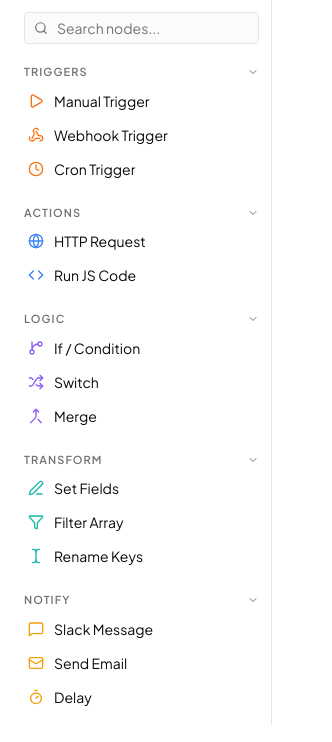
NodePalette › shows all items regardless of collapsed state when searching
Click the button "Triggers".
click(142, 70)  # box [12, 56, 271, 84]
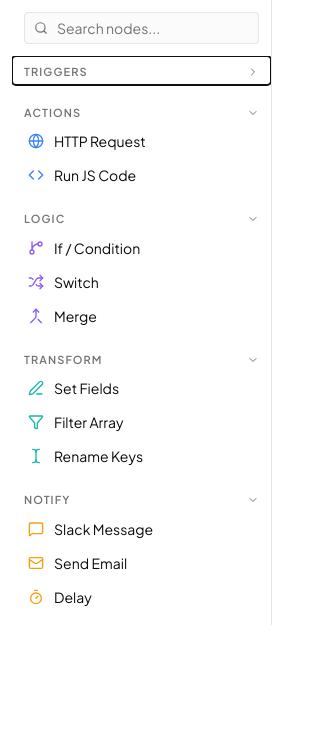
Expected: the text "Manual Trigger" is gone
Type "trigger" into the field with placeholder "Search nodes...".
click(142, 28); type("trigger")  # box [24, 12, 259, 44]
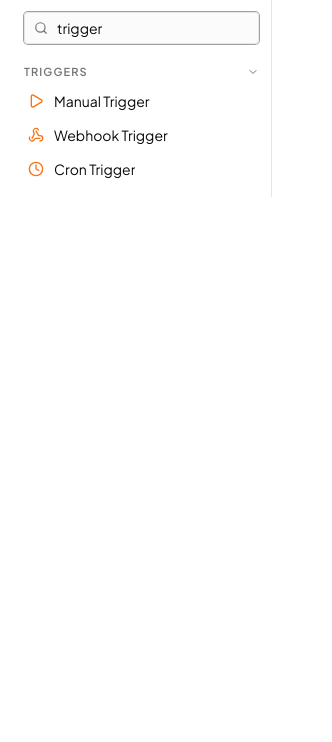
Expected: the text "Manual Trigger" is shown, [54, 90, 150, 110]
Expected: the text "Webhook Trigger" is shown, [54, 124, 168, 144]
